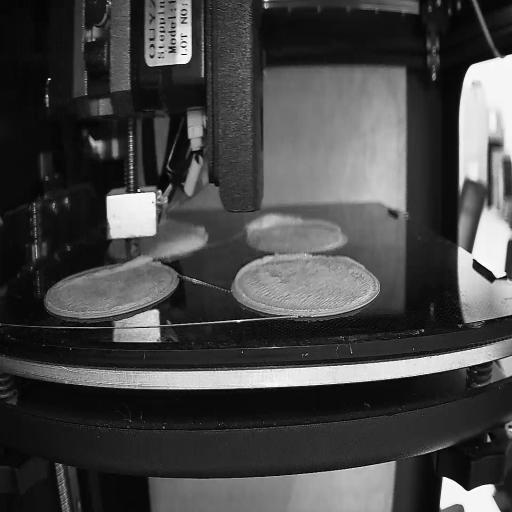over_extrusion: (235, 252, 312, 313), (66, 252, 152, 288), (244, 212, 306, 244), (330, 252, 367, 272), (308, 217, 342, 233)
